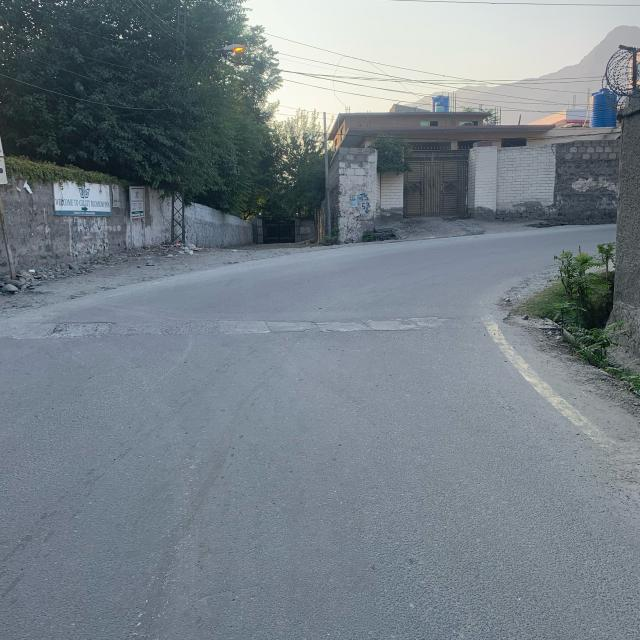Right-Turn: (172, 224, 602, 348)
